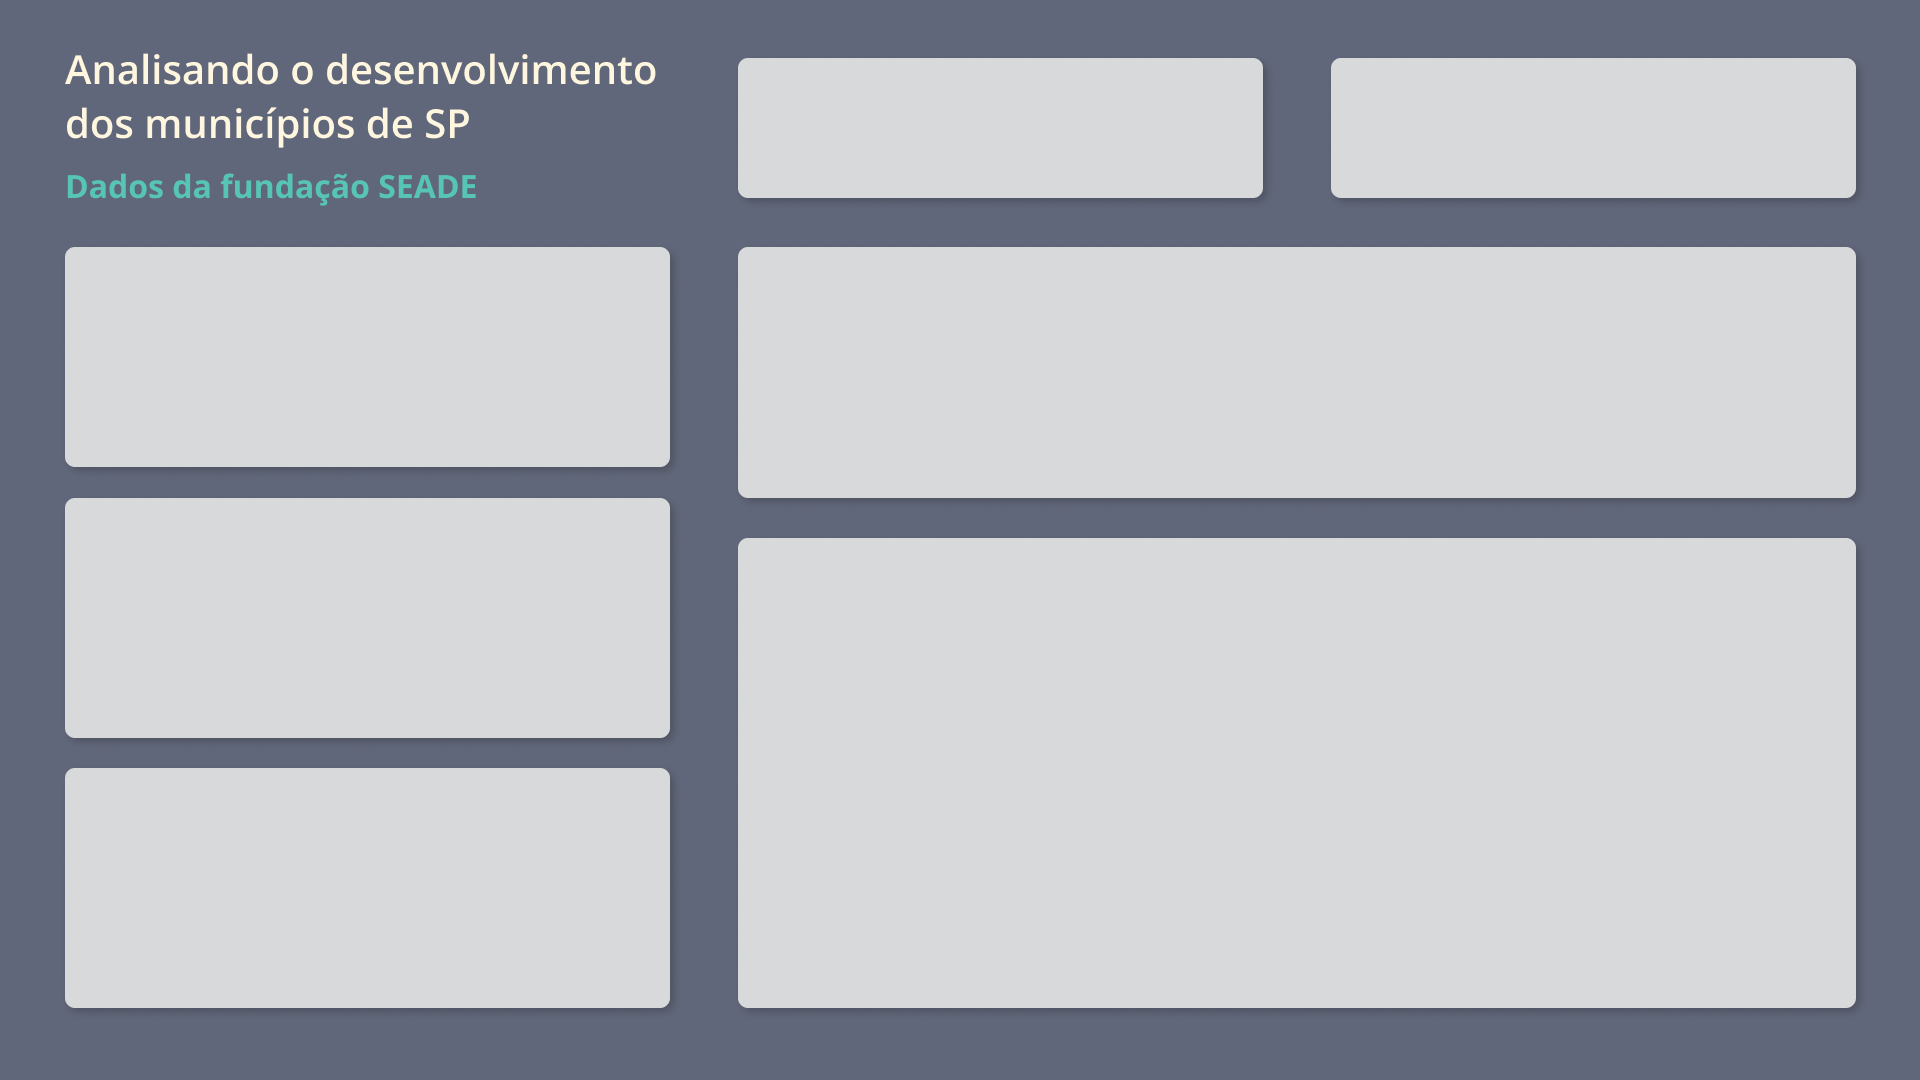

The dashboard page shown, as its layout file describes it:
{"tool":"powerbi","page":{"name":"População","canvas":[1280,720],"ordinal":1},"visuals":[{"type":"card","fields":{"Values":["Sum(grupos_populacao.populacao)"]},"box":[42.6,167.6,205.7,142.8],"z":0},{"type":"slicer","title":"Ano","fields":{"Values":["grupos_populacao.ano"]},"box":[888.3,37.9,344.1,96.2],"z":1000},{"type":"slicer","title":"Município","fields":{"Values":["grupos_populacao.municipio"]},"box":[496.6,49.6,336.9,71.8],"z":2000},{"type":"areaChart","title":"População Total por Ano","fields":{"Category":["grupos_populacao.ano"],"Y":["Sum(grupos_populacao.populacao)"]},"box":[496.6,167.6,736,159.6],"z":3000},{"type":"esriVisual","fields":{"Location":["grupos_populacao.municipio"],"Size":["Sum(grupos_populacao.populacao)"]},"box":[502.8,374.2,720.9,283.7],"z":4000},{"type":"card","fields":{"Values":["MedidasPopulacao.MunicipioMaisPopuloso"]},"box":[42.6,336.9,205.7,152.5],"z":5000},{"type":"card","fields":{"Values":["MedidasPopulacao.MaiorPopulacao"]},"box":[248.3,336.9,196,152.5],"z":6000},{"type":"card","fields":{"Values":["MedidasPopulacao.MunicipioMenosPopuloso"]},"box":[42.6,515.2,205.7,153.4],"z":7000},{"type":"card","fields":{"Values":["MedidasPopulacao.MenorPopulacao"]},"box":[248.3,520.5,196,143.6],"z":8000},{"type":"card","fields":{"Values":["MedidasPopulacao.VariacaoPopulacao"]},"box":[246.5,165.8,197.7,142.8],"z":9000},{"type":"actionButton","box":[1234.3,0,45.7,39.8],"z":10000},{"type":"actionButton","box":[0,0,42.8,39.8],"z":11000}]}

Visuals, with their boxes in screenshot pixels (x1, y1, x2, y2), scaled from the page's 1280x720 canvas onto the 1920x1080 screenshot:
card - Sum(grupos_populacao.populacao): (64, 251, 372, 466)
"Ano" slicer: (1332, 57, 1849, 201)
"Município" slicer: (745, 74, 1250, 182)
"População Total por Ano" areaChart: (745, 251, 1849, 491)
esriVisual - grupos_populacao.municipio x Sum(grupos_populacao.populacao): (754, 561, 1836, 987)
card - MedidasPopulacao.MunicipioMaisPopuloso: (64, 505, 372, 734)
card - MedidasPopulacao.MaiorPopulacao: (372, 505, 666, 734)
card - MedidasPopulacao.MunicipioMenosPopuloso: (64, 773, 372, 1003)
card - MedidasPopulacao.MenorPopulacao: (372, 781, 666, 996)
card - MedidasPopulacao.VariacaoPopulacao: (370, 249, 666, 463)
actionButton: (1851, 0, 1919, 60)
actionButton: (0, 0, 64, 60)
